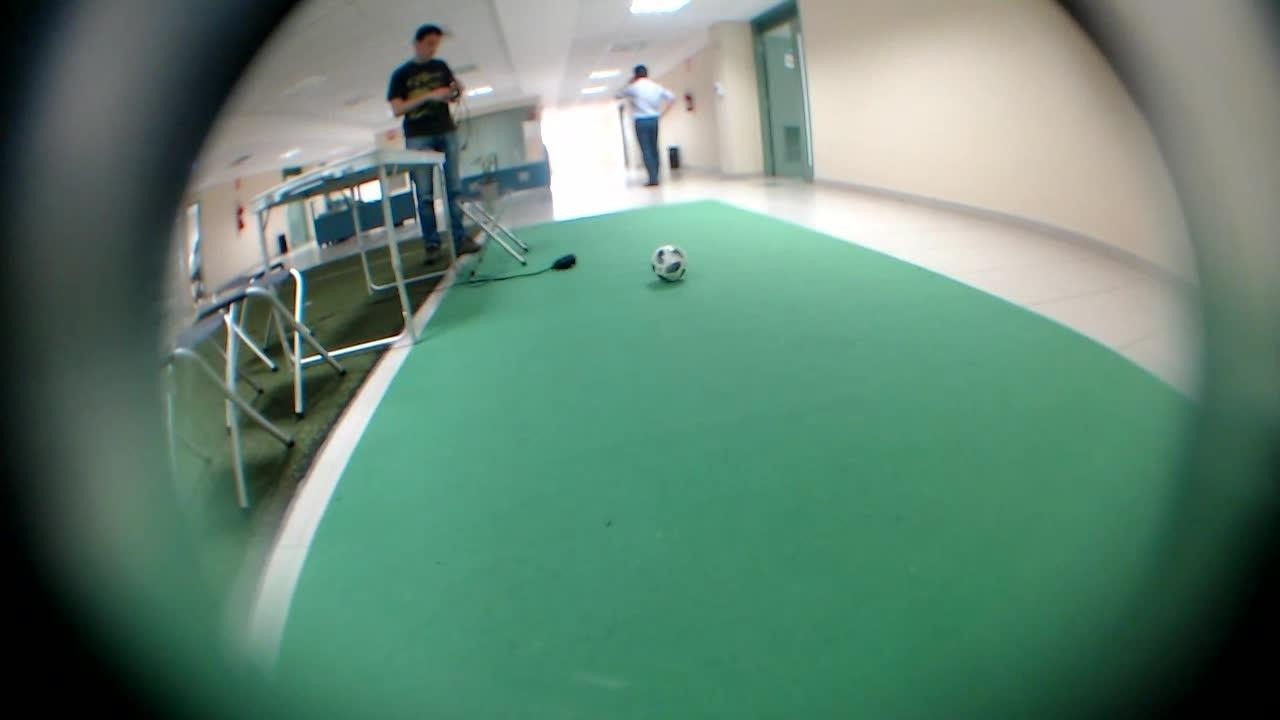ball: (642, 238, 694, 287)
